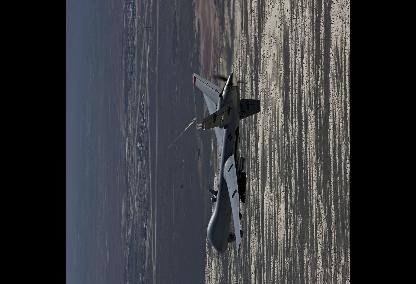MQ9: (192, 71, 260, 261)
